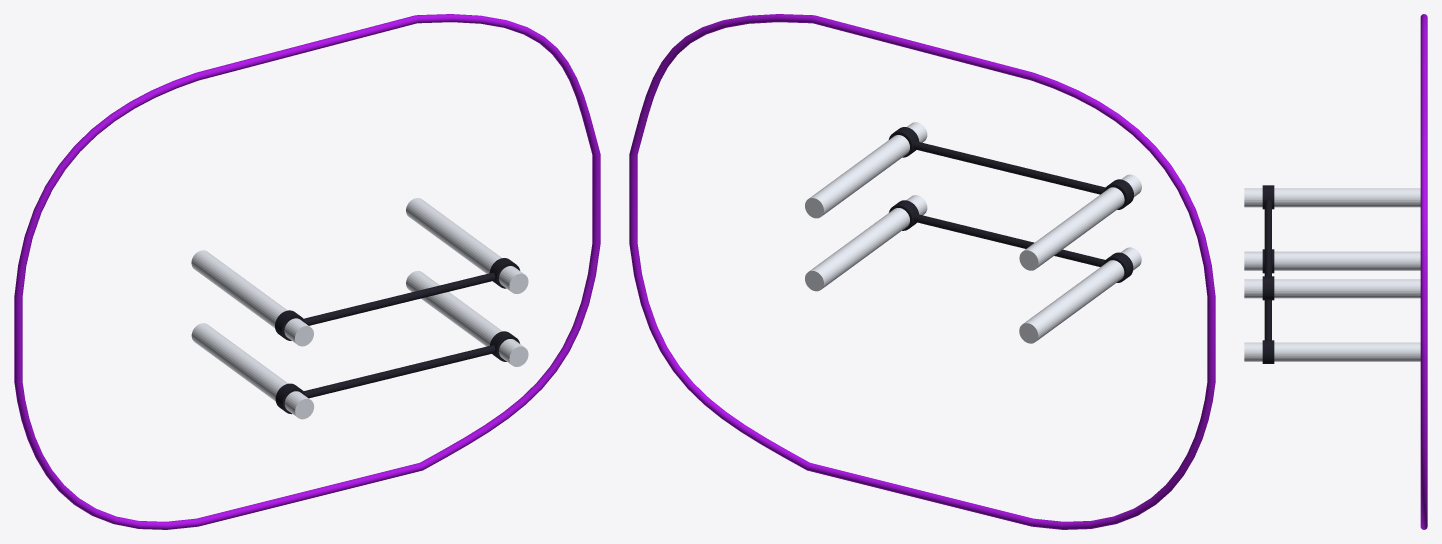
File: kpro-010.glb
3 renders of one model, left to right at view 1: azimuth 30°, elevation 25°; view 2: azimuth 150°, elevation 25°; view 3: azimuth 270°, elevation 25°, orthographic. The views are drawn at different scales.
Visible parts, largest first — view 1: _outline.009, Cylinder.034, Cylinder.031, Cylinder.032, Cylinder.033, Cylinder.038, Cylinder.037; view 2: _outline.009, Cylinder.034, Cylinder.031, Cylinder.033, Cylinder.032, Cylinder.038, Cylinder.037; view 3: _outline.009, Cylinder.031, Cylinder.032, Cylinder.033, Cylinder.034, Cylinder.038, Cylinder.037, Cylinder.042, Cylinder.039, Cylinder.041.
Part boxes in pixels (x1,y1,x2,y2): _outline.009: (14,14,600,529); Cylinder.034: (191,323,314,419); Cylinder.031: (191,250,313,346); Cylinder.032: (406,198,528,293); Cylinder.033: (406,271,528,366); Cylinder.038: (304,272,495,325); Cylinder.037: (304,345,495,398); _outline.009: (629,14,1215,529); Cylinder.034: (1019,247,1141,343); Cylinder.031: (1019,174,1141,270); Cylinder.033: (805,195,927,291); Cylinder.032: (805,122,927,218); Cylinder.038: (914,141,1105,194); Cylinder.037: (914,214,1104,266); _outline.009: (1420,14,1427,529); Cylinder.031: (1244,188,1420,207); Cylinder.032: (1244,279,1420,298); Cylinder.033: (1244,342,1420,361); Cylinder.034: (1244,251,1420,270); Cylinder.038: (1264,199,1271,276); Cylinder.037: (1264,300,1271,340); Cylinder.042: (1262,276,1274,300); Cylinder.039: (1262,340,1274,363); Cylinder.041: (1262,185,1274,209).
Bounding box in the file's own units: 4.9 × 3.66 × 1.53.
